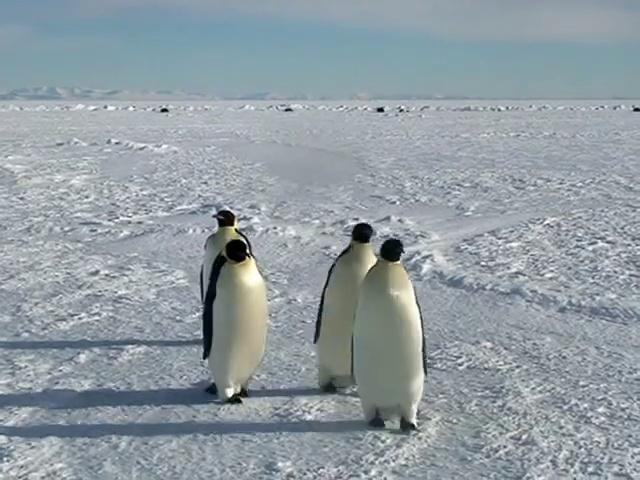animal: (354, 238, 425, 430)
